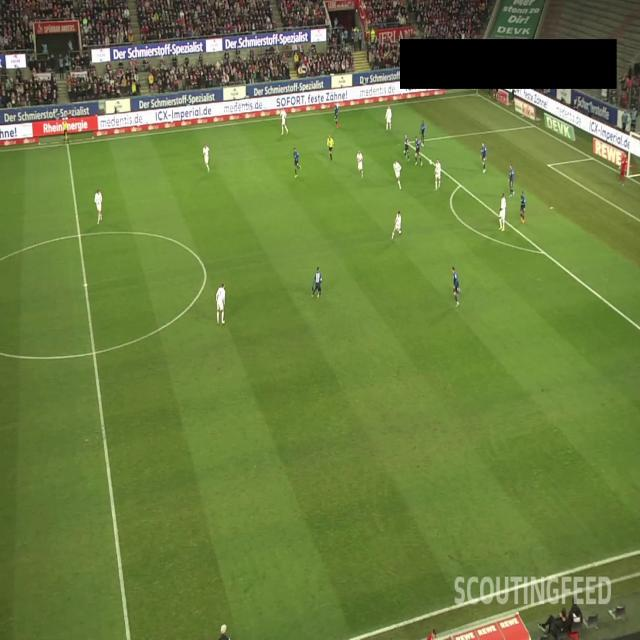Ball: (429, 160, 432, 168)
GoalKeeper: (618, 150, 626, 183)
Referee: (325, 136, 335, 160), (62, 121, 70, 144)
TEAM 1: (311, 267, 323, 300), (452, 266, 461, 307), (293, 147, 302, 180), (479, 140, 488, 173), (507, 162, 515, 198), (519, 190, 527, 223), (414, 138, 422, 168), (403, 134, 411, 164), (419, 120, 426, 147), (333, 103, 340, 130)
TEAM 2: (215, 283, 226, 325), (392, 158, 402, 191), (94, 188, 103, 224), (499, 193, 507, 232), (355, 150, 365, 178), (392, 210, 401, 240), (434, 159, 442, 190), (202, 142, 210, 173), (280, 108, 288, 136), (385, 104, 393, 132)
